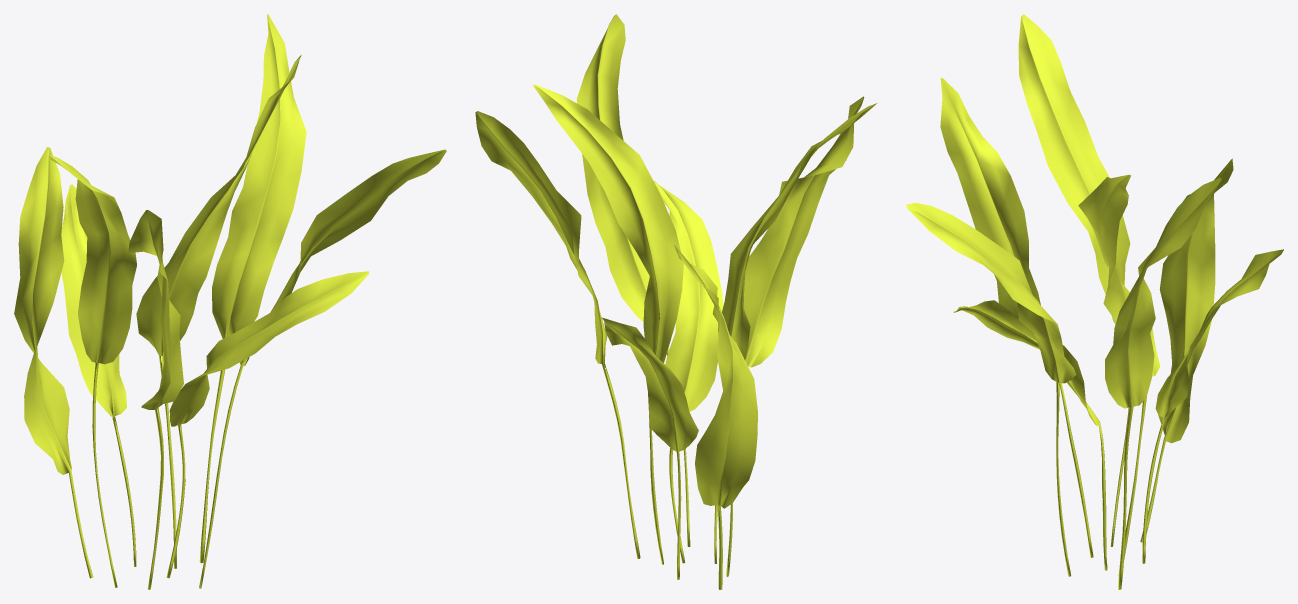
Rendered from WavyKelp1.fbx.
The picture shows the model from 3 angles, left to right: view 1: azimuth 30°, elevation 25°; view 2: azimuth 150°, elevation 25°; view 3: azimuth 270°, elevation 25°; orthographic projection. The views are drawn at different scales.
Parts seen in each view (by area): view 1: Plane.024; view 2: Plane.024; view 3: Plane.024.
Part boxes in pixels (x1,y1,x2,y2): Plane.024: (14, 14, 446, 589); Plane.024: (475, 14, 877, 589); Plane.024: (906, 14, 1283, 589).
Size of the model in its own units: 17.33 by 23.85 by 17.04.
